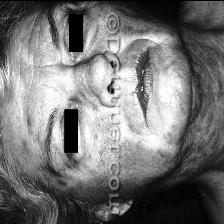Unclassified: (196, 125, 216, 153), (123, 142, 136, 166)
